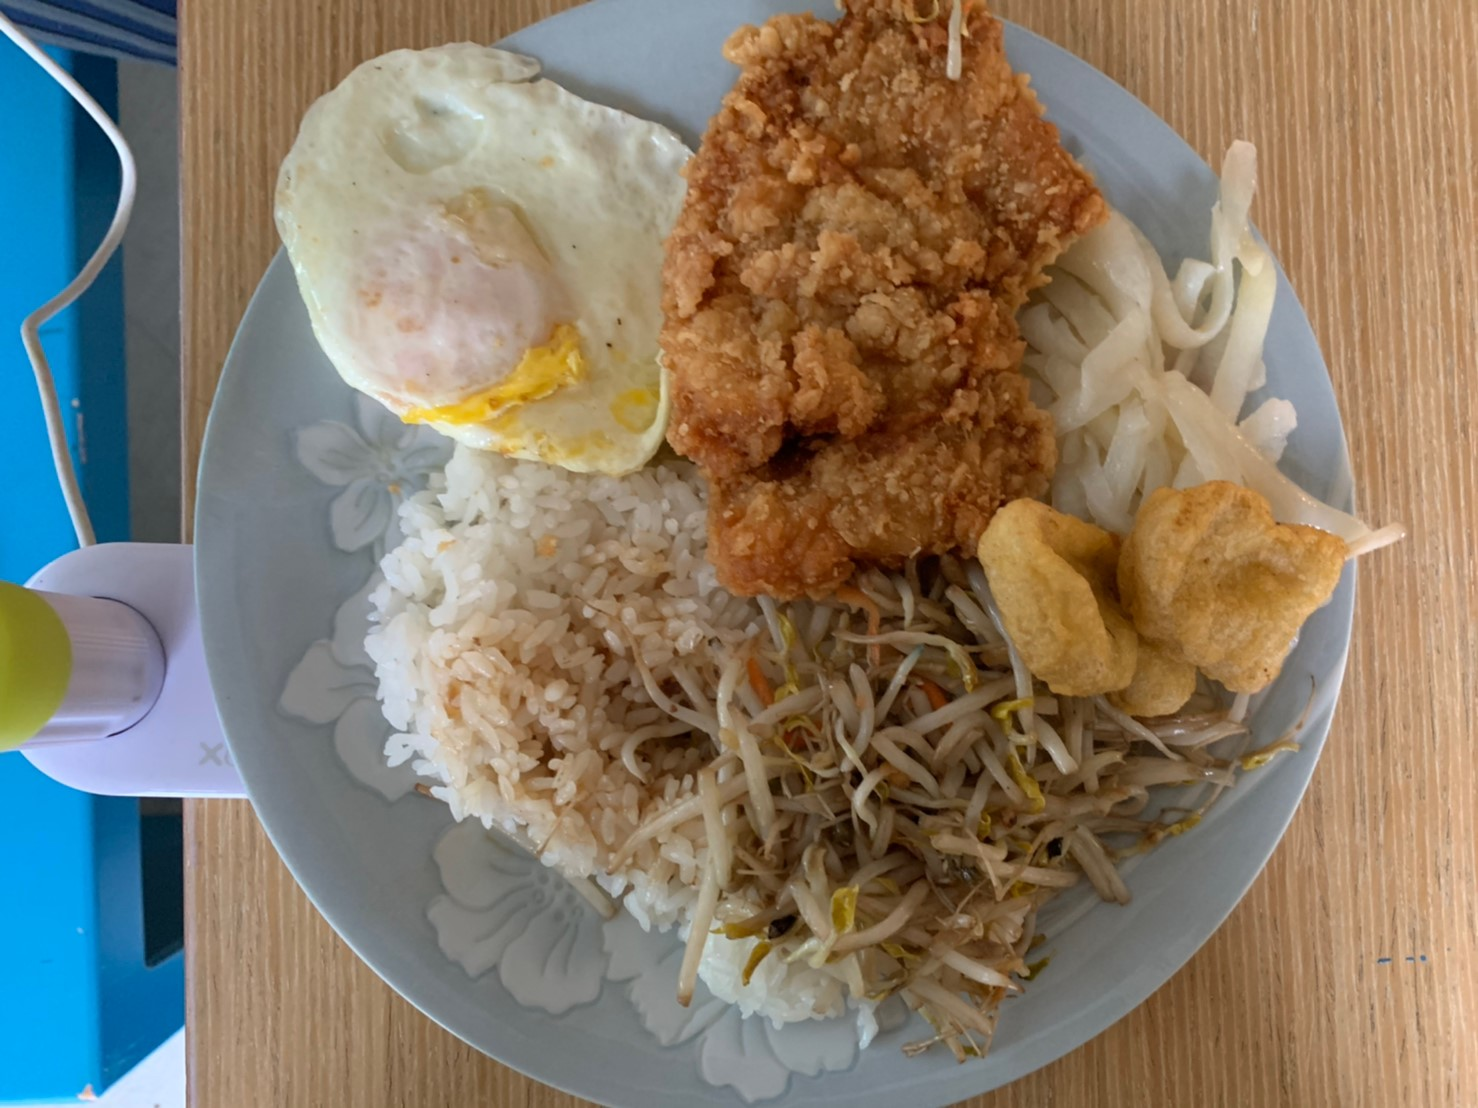chicken_nuggets: (985, 480, 1352, 715)
fried_chicken: (670, 26, 1036, 567)
fried_eggs: (286, 45, 654, 480)
mung_bean_sprouts: (733, 631, 1120, 1018)
rice: (374, 478, 702, 882)
